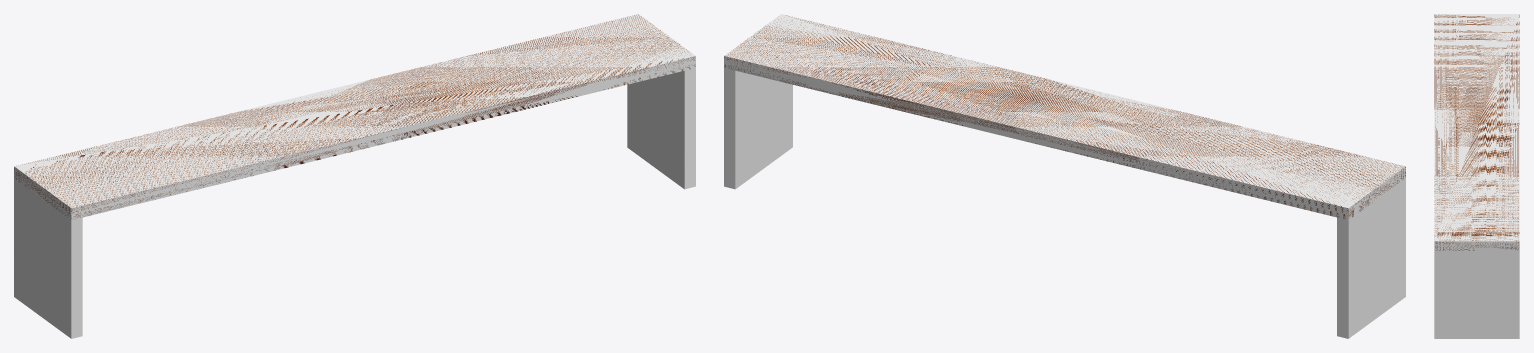
The picture shows the model from 3 angles, left to right: view 1: azimuth 30°, elevation 25°; view 2: azimuth 150°, elevation 25°; view 3: azimuth 270°, elevation 25°; orthographic projection. The views are drawn at different scales.
Parts seen in each view (by area): view 1: mesh2_mesh2-geometry, mesh1_mesh1-geometry; view 2: mesh2_mesh2-geometry, mesh1_mesh1-geometry; view 3: mesh2_mesh2-geometry, mesh1_mesh1-geometry.
Part boxes in pixels (box(x1,y1,x2,y2)): mesh2_mesh2-geometry: box(14, 14, 695, 220); mesh1_mesh1-geometry: box(14, 68, 695, 338); mesh2_mesh2-geometry: box(724, 14, 1405, 220); mesh1_mesh1-geometry: box(724, 68, 1405, 338); mesh2_mesh2-geometry: box(1434, 14, 1519, 250); mesh1_mesh1-geometry: box(1434, 250, 1519, 338).
Bounding box in the file's own units: 0.9689 × 0.1938 × 0.1541.
